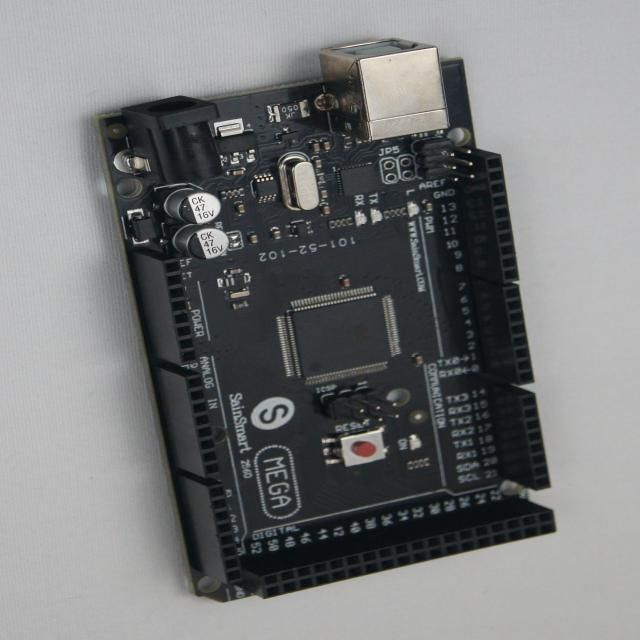Arduino Mega 2560 -Black-: (100, 40, 556, 602)
